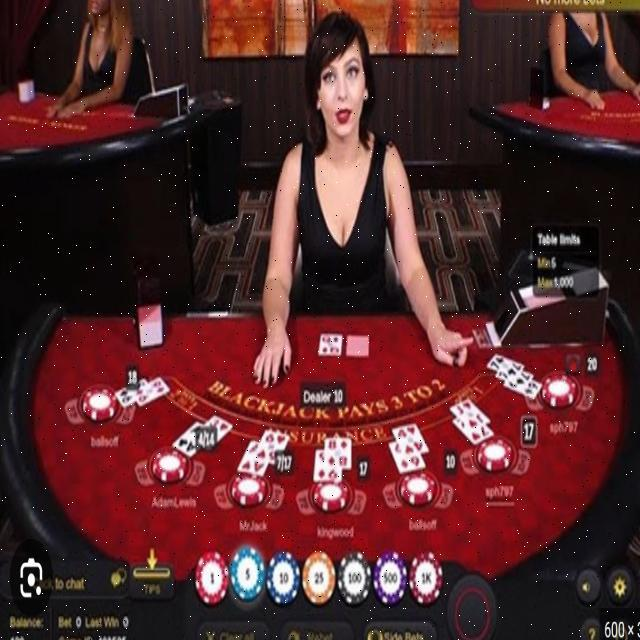Card-10: (318, 333, 342, 356)
Card-3: (205, 415, 233, 441)
Card-4: (392, 425, 429, 455)
Card-6: (389, 442, 425, 474), (257, 431, 289, 466), (503, 380, 542, 399)
Card-7: (453, 417, 494, 444), (486, 354, 524, 376), (496, 370, 534, 387)
Card-8: (116, 377, 148, 408), (325, 439, 351, 468)
Card-9: (313, 450, 342, 483)
Card-A: (173, 421, 202, 459), (238, 441, 269, 476)
Card-J: (450, 398, 490, 430)
Card-Q: (134, 376, 170, 406)
